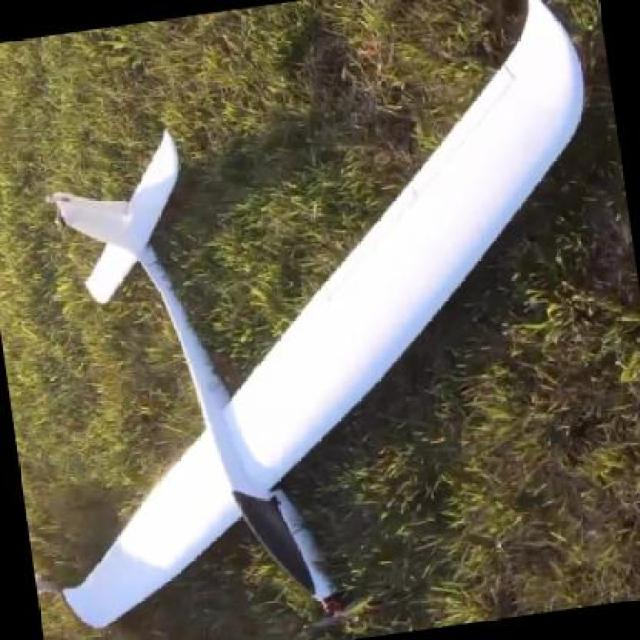iha: (9, 0, 610, 620)
